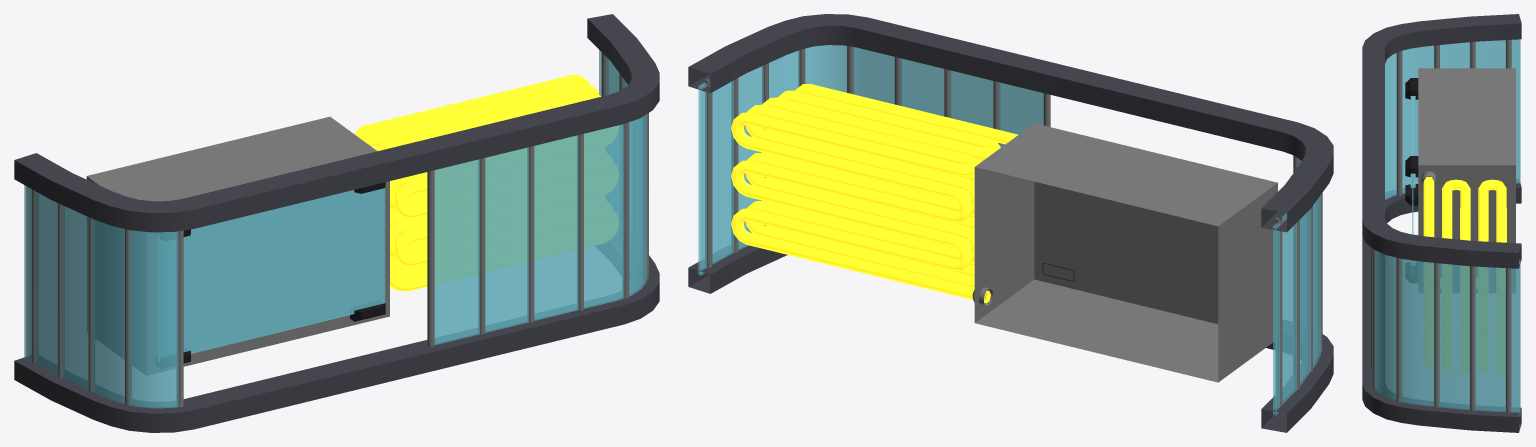
File: Misc_Heater.fbx
3 views of the same model, side by side, from view 1: azimuth 30°, elevation 25°; view 2: azimuth 150°, elevation 25°; view 3: azimuth 270°, elevation 25° (orthographic). The views are drawn at different scales.
Parts seen in each view (by area): view 1: Misc_Heater.001; view 2: Misc_Heater.001; view 3: Misc_Heater.001.
Part boxes in pixels (x1=…): Misc_Heater.001: x1=14, y1=14, x2=659, y2=432; Misc_Heater.001: x1=688, y1=14, x2=1333, y2=432; Misc_Heater.001: x1=1362, y1=14, x2=1521, y2=432.
Size of the model in its own units: 1.3 by 0.4572 by 0.3676.
